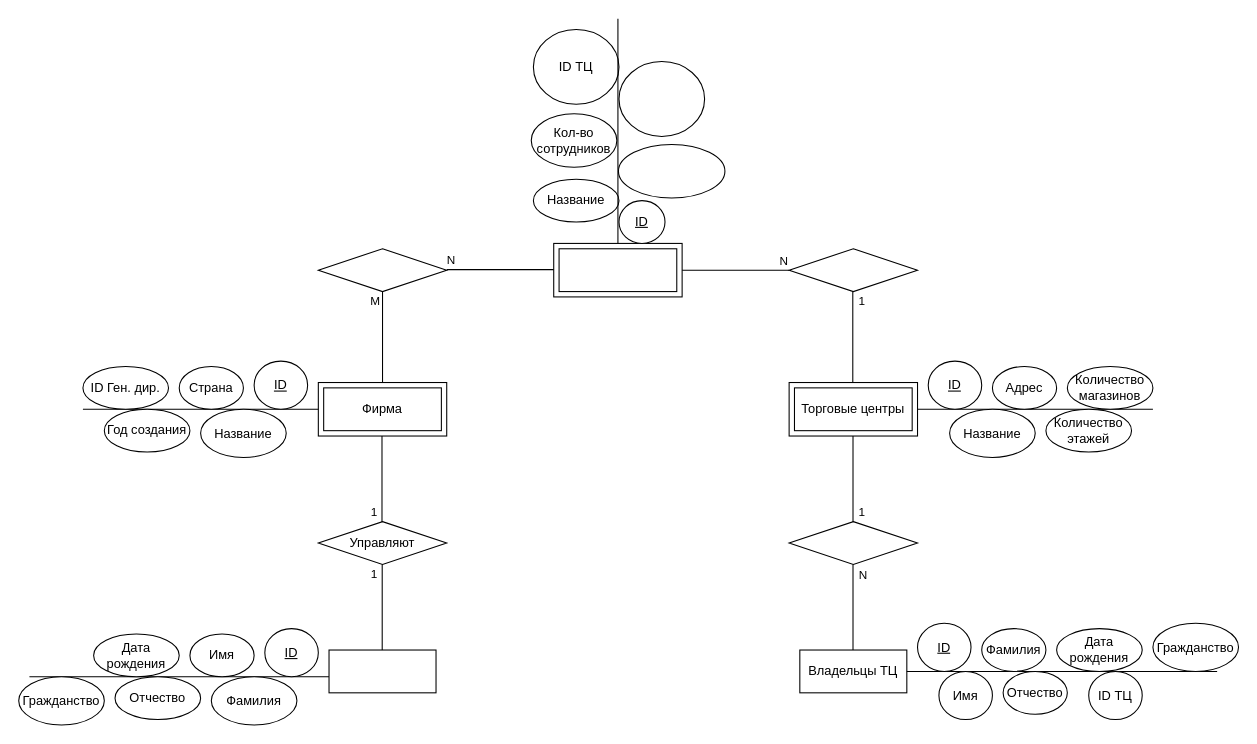
Some shapes in this 1257 by 744 pixel diagram are drawn without their labels. Here are the shapes that lost their labels. From the top down, the centre of each, then its label:
At [661,98]: "Прибыль в месяц".
At [671,170]: "Специализация".
At [382,270]: "Сотрудничают".
At [617,269]: "Магазины одежды".
At [853,270]: "Находятся".
At [853,542]: "Владеют".
At [382,671]: "Генеральные директора".
